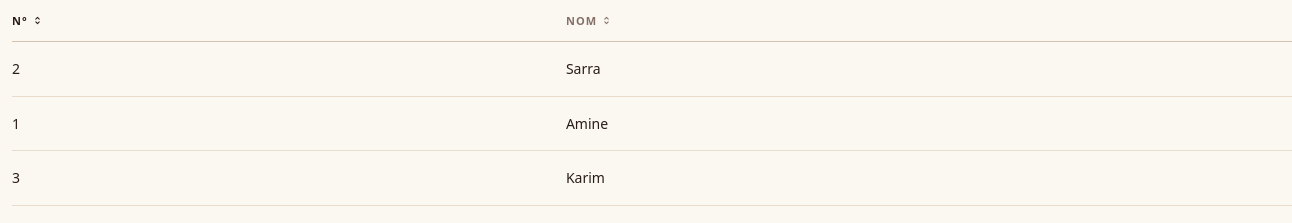
Test: DataTable › sorts by a column and toggles direction
Later steps or results of the test are not shown.
Click the button "Nom" at (589, 20), box [566,12,612,29]
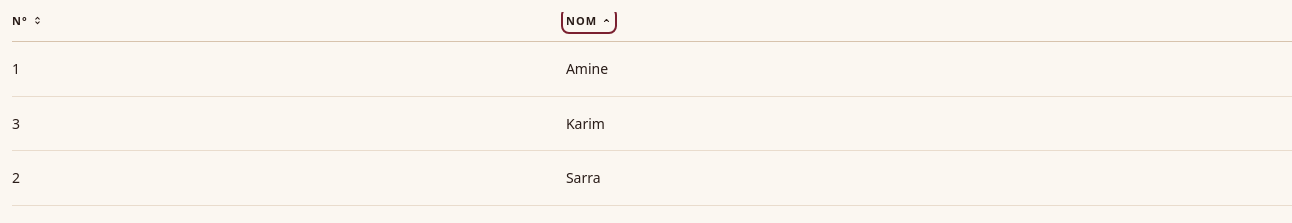
Now the column heading "Nom" has attribute aria-sort="ascending", box [554,12,1291,42]
